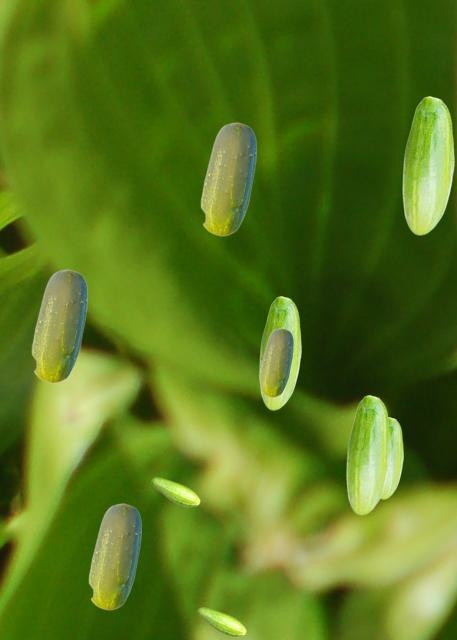cucumber: (402, 96, 453, 234), (200, 122, 255, 235), (31, 269, 86, 382), (88, 503, 140, 609), (346, 395, 389, 514), (259, 296, 300, 409), (259, 328, 292, 396), (381, 417, 402, 498), (197, 607, 245, 636), (151, 477, 199, 506)
